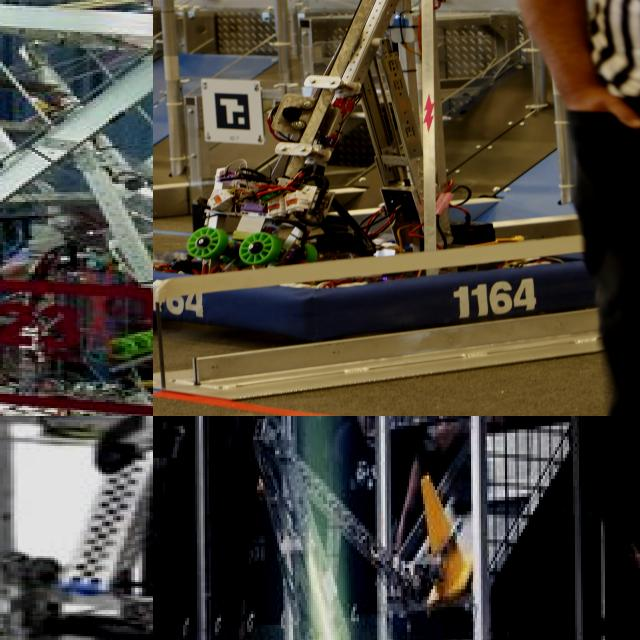FRC-Robots: (153, 0, 619, 348), (195, 416, 510, 640), (0, 0, 153, 416), (0, 416, 153, 640)
